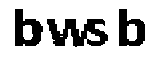b: (9, 6, 44, 50), (116, 7, 149, 53)
s: (87, 16, 110, 51)
w: (44, 18, 88, 48)
